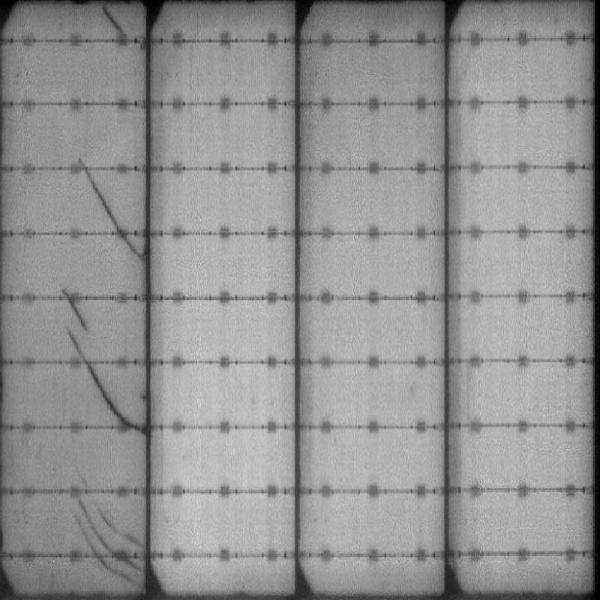scratch: (71, 499, 142, 585), (74, 172, 125, 232), (90, 370, 145, 424), (64, 289, 90, 356), (102, 8, 125, 38), (120, 233, 142, 264)
